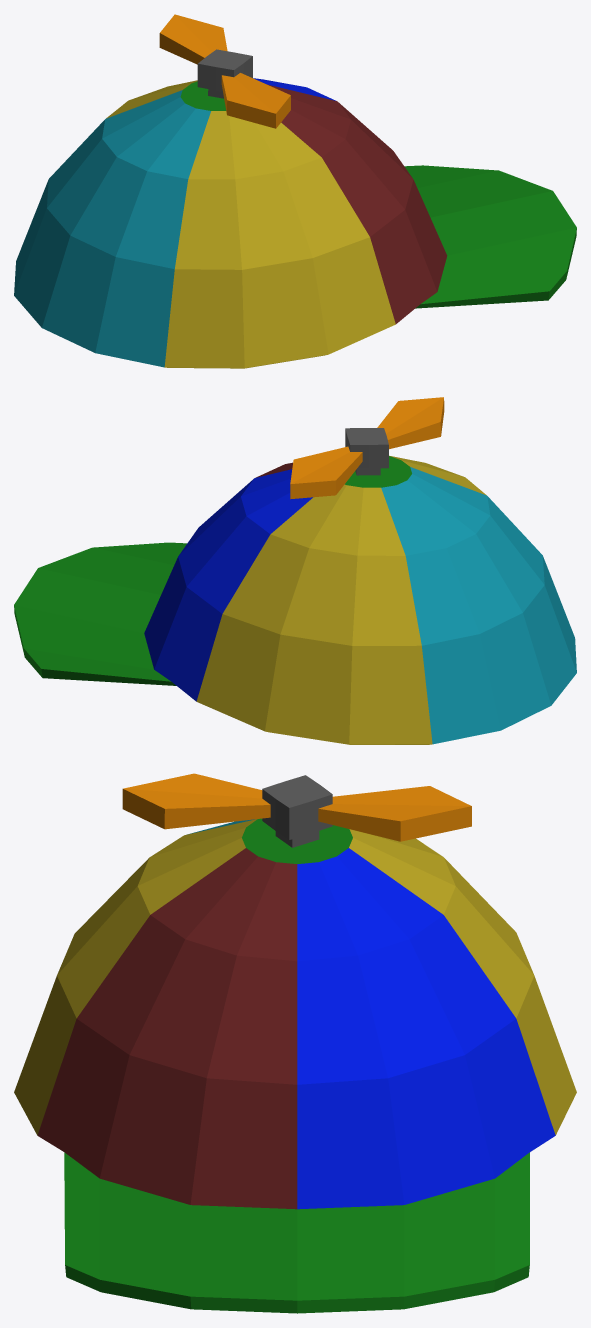
Rendered from PropellerHat.fbx.
3 renders of one model, top to bottom at view 1: azimuth 30°, elevation 25°; view 2: azimuth 150°, elevation 25°; view 3: azimuth 270°, elevation 25°, orthographic. The views are drawn at different scales.
Parts seen in each view (by area): view 1: PropellerHat; view 2: PropellerHat; view 3: PropellerHat.
Boxes of the visible parts, box(x1,y1,x2,y2) form: PropellerHat: box(14, 14, 576, 368); PropellerHat: box(14, 397, 576, 744); PropellerHat: box(14, 773, 576, 1313).
Size of the model in its own units: 131 by 58.1 by 91.03.
